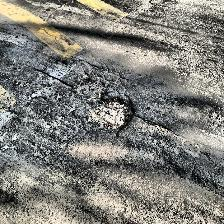pothole: (86, 94, 136, 132), (72, 77, 106, 97), (48, 56, 68, 70)
